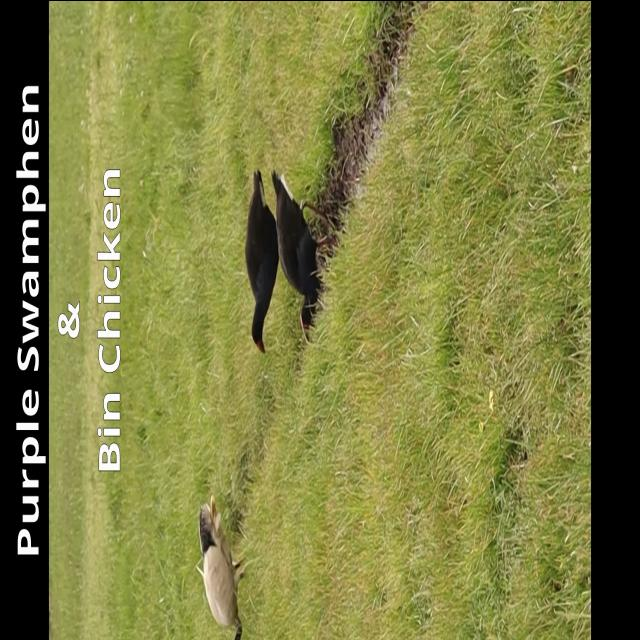Birds-Ibis: (196, 492, 252, 640)
Birds-Other: (272, 166, 330, 344), (244, 164, 282, 356)
